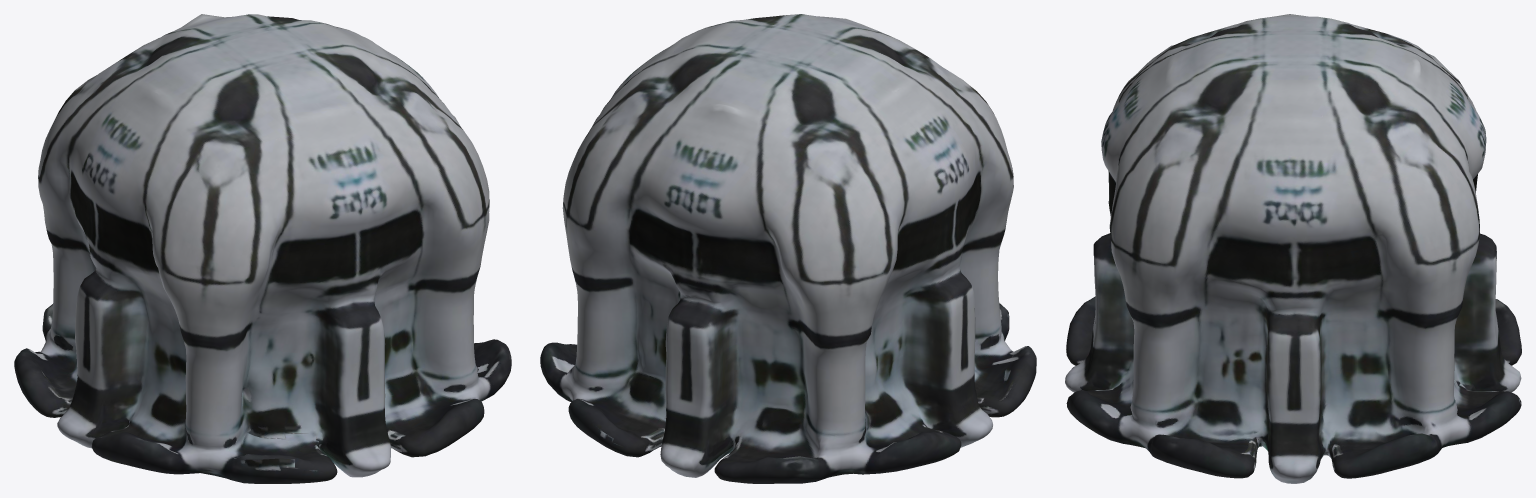
File: e2b5692f52f8_CREA_UNA_NAVE_NODRI.fbx
The picture shows the model from 3 angles, left to right: view 1: azimuth 30°, elevation 25°; view 2: azimuth 150°, elevation 25°; view 3: azimuth 270°, elevation 25°; orthographic projection.
Visible parts, largest first — view 1: mesh; view 2: mesh; view 3: mesh.
Boxes of the visible parts, x1,y1,x2,y2 form: mesh: (14,14,511,483); mesh: (540,14,1036,483); mesh: (1065,14,1521,483).
Bounding box in the file's own units: 99.59 × 84.99 × 99.15.
